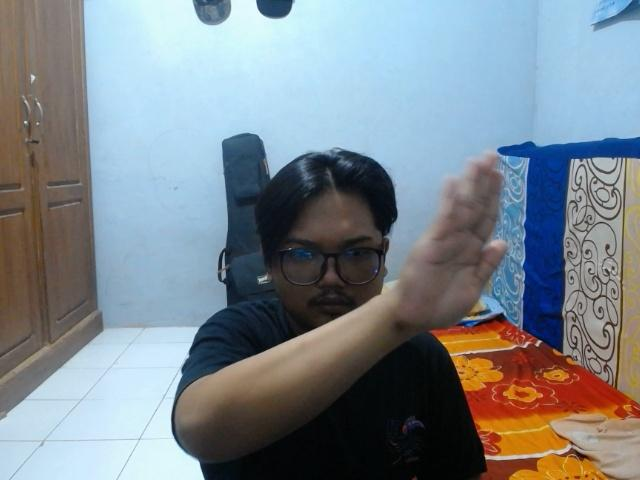Release: (388, 146, 512, 340)
